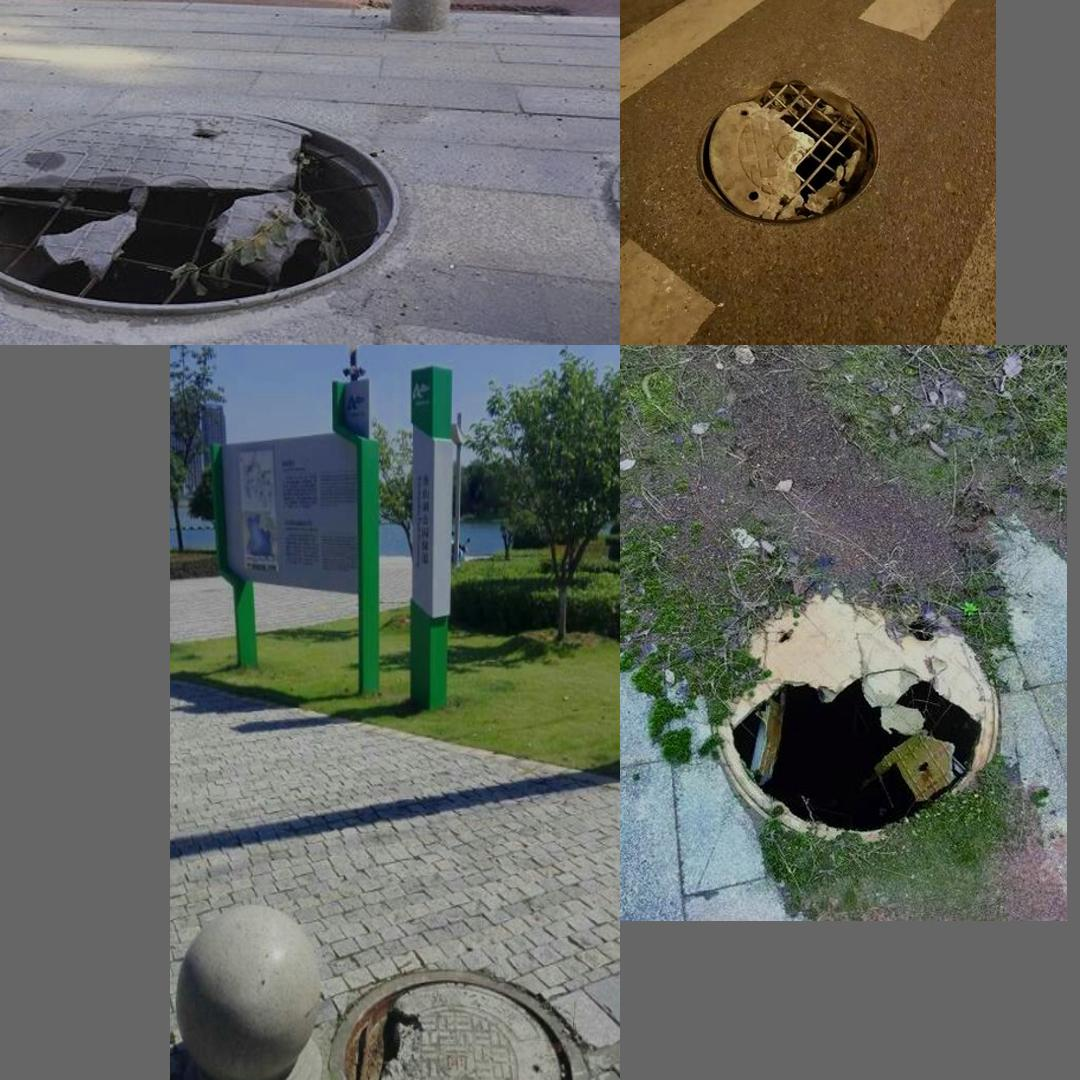broke: (0, 70, 418, 331), (686, 581, 1029, 851), (685, 71, 890, 230), (326, 965, 588, 1080)
